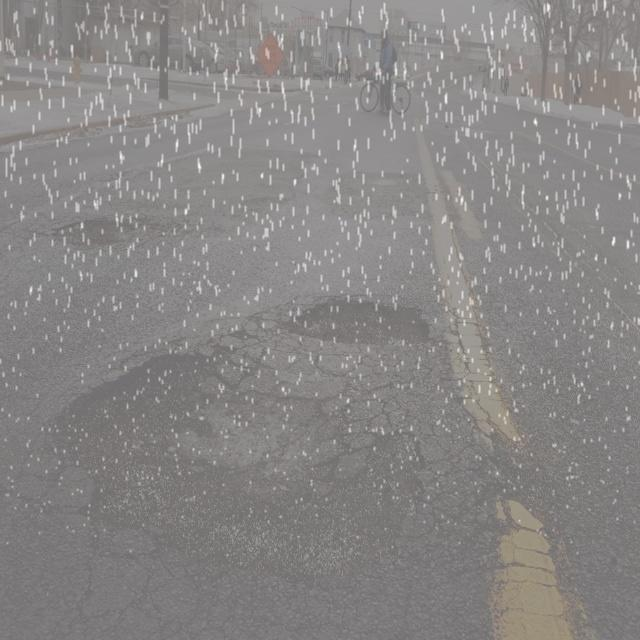Pothole: (16, 339, 490, 595), (256, 270, 467, 371), (429, 168, 486, 256), (51, 209, 141, 257), (342, 167, 406, 202)
